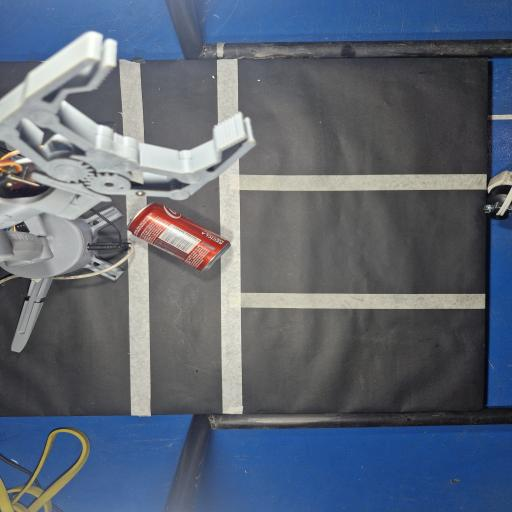lata: (128, 203, 230, 271)
